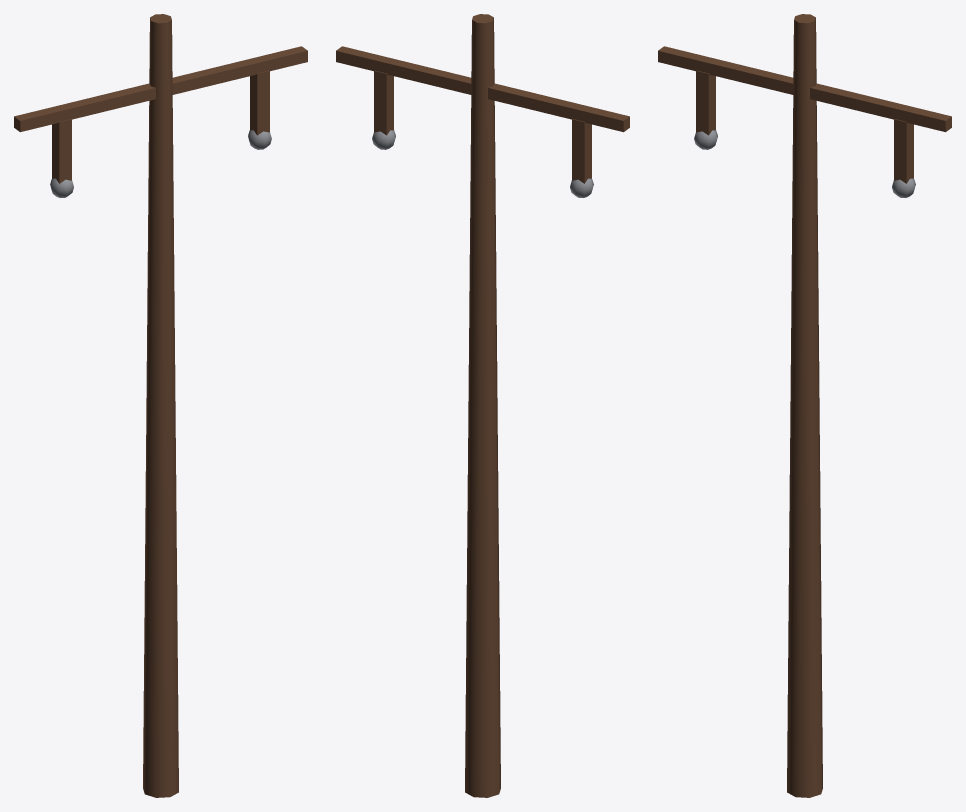
Rendered from powerline_mid.glb.
3 renders of one model, left to right at view 1: azimuth 30°, elevation 25°; view 2: azimuth 150°, elevation 25°; view 3: azimuth 330°, elevation 25°, orthographic.
Bounding box in the file's own units: 3.2 × 8.2 × 0.36.
